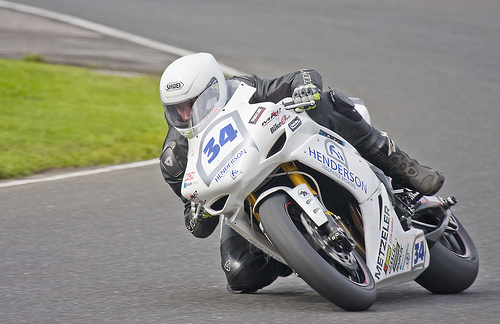helmet: (157, 51, 230, 129)
